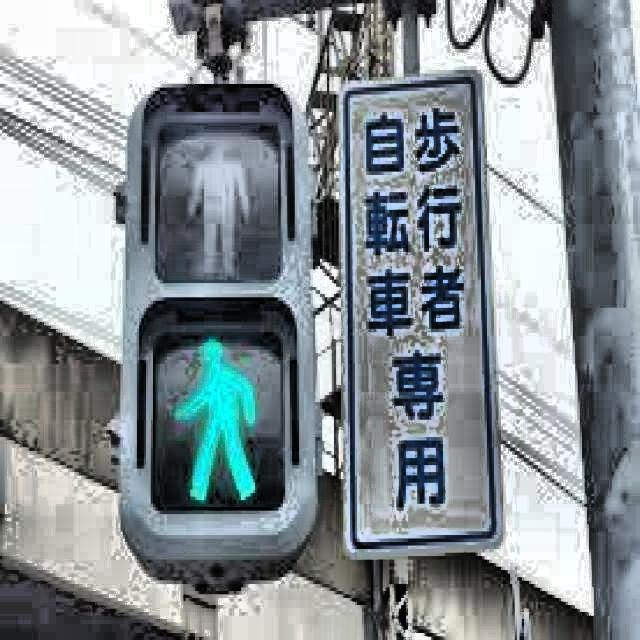semaforo pedestre: (98, 45, 405, 595)
